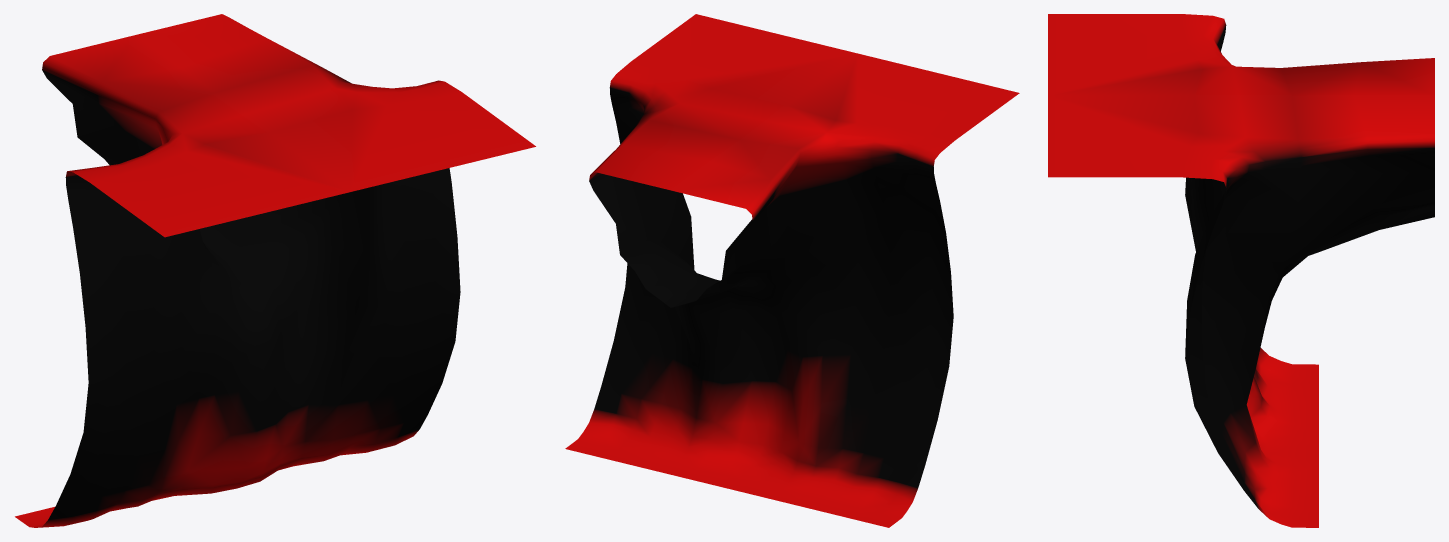
File: CrossingCliff02B 2M Background.fbx
The picture shows the model from 3 angles, left to right: view 1: azimuth 30°, elevation 25°; view 2: azimuth 150°, elevation 25°; view 3: azimuth 270°, elevation 25°; orthographic projection. The views are drawn at different scales.
Parts seen in each view (by area): view 1: CrossingCliff02B 2M Background; view 2: CrossingCliff02B 2M Background; view 3: CrossingCliff02B 2M Background.
Part boxes in pixels (x1,y1,x2,y2): CrossingCliff02B 2M Background: [15, 14, 535, 527]; CrossingCliff02B 2M Background: [565, 14, 1019, 527]; CrossingCliff02B 2M Background: [1048, 14, 1434, 527].
Size of the model in its own units: 2 by 2.01 by 2.
